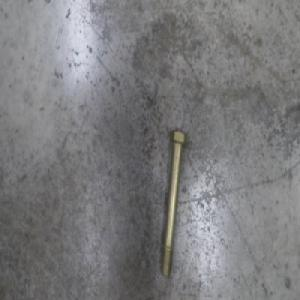Bolt: (159, 129, 188, 278)
